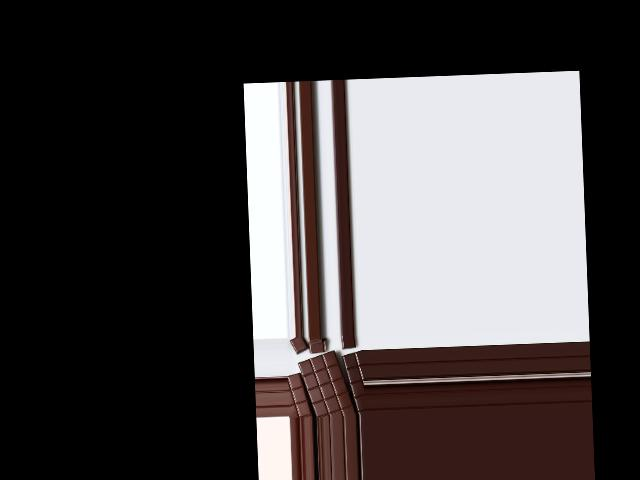chocolate: (296, 350, 354, 418)
